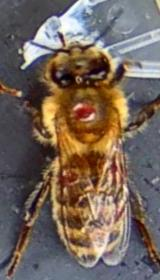varroa_mite: (62, 92, 113, 142), (46, 163, 92, 197)
